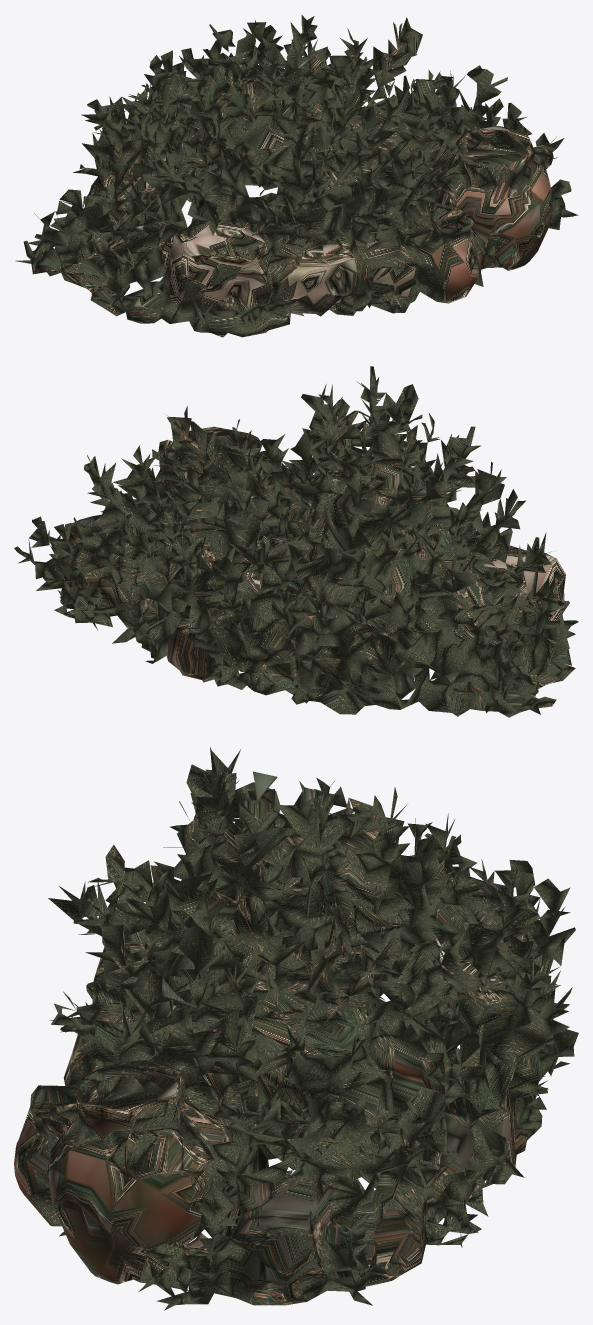
File: olive-wall-cluster-b.glb
3 views of the same model, one above another, from view 1: azimuth 30°, elevation 25°; view 2: azimuth 150°, elevation 25°; view 3: azimuth 270°, elevation 25° (orthographic). The views are drawn at different scales.
Visible parts, largest first — view 1: geometry_0; view 2: geometry_0; view 3: geometry_0.
Boxes of the visible parts, x1,y1,x2,y2 form: geometry_0: [15, 15, 578, 337]; geometry_0: [14, 366, 578, 717]; geometry_0: [14, 747, 578, 1310].
Bounding box in the file's own units: 2.23 × 1.05 × 1.44.
Materials: 1 (1 with a texture image).
